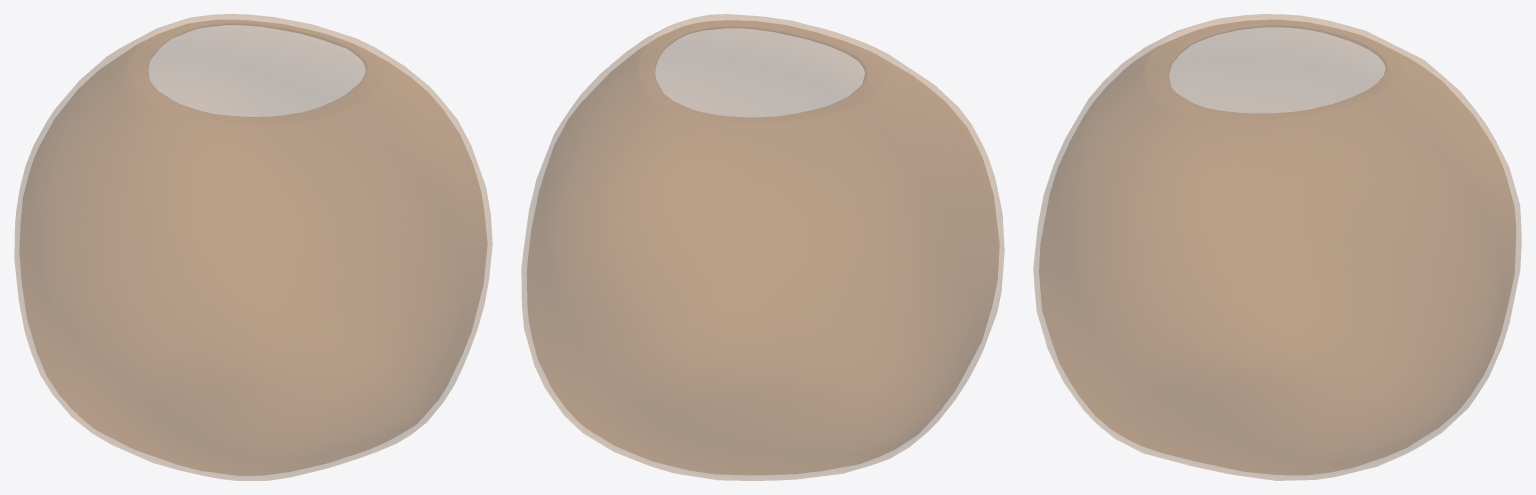
The model's file is home-decor-accessories_vases-decorating-bowls_stockholm-2025-vase_brown_90590490.glb.
3 renders of one model, left to right at view 1: azimuth 30°, elevation 25°; view 2: azimuth 150°, elevation 25°; view 3: azimuth 270°, elevation 25°, orthographic.
Parts seen in each view (by area): view 1: ASY_ART_90590490_S01_NV01; view 2: ASY_ART_90590490_S01_NV01; view 3: ASY_ART_90590490_S01_NV01.
Boxes of the visible parts, <box> form: ASY_ART_90590490_S01_NV01: <box>14,14,492,480</box>; ASY_ART_90590490_S01_NV01: <box>521,14,1004,480</box>; ASY_ART_90590490_S01_NV01: <box>1033,14,1521,480</box>.
Size of the model in its own units: 0.241 by 0.1966 by 0.2433.
1 material, 1 textured.
